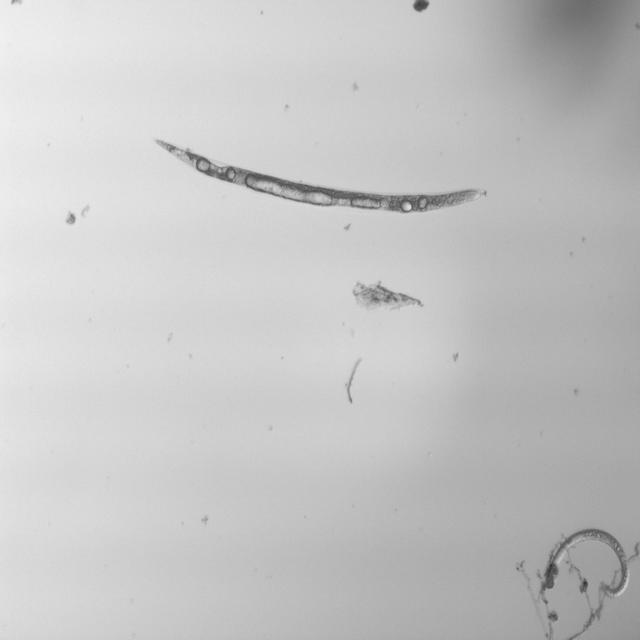Radopholus: (146, 128, 492, 218)
